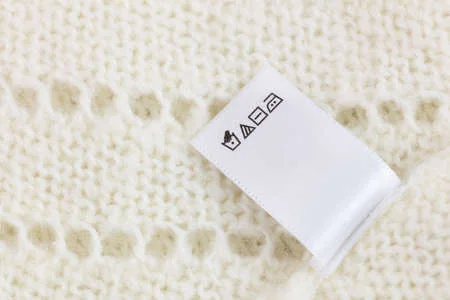ER_flat_dry: (245, 103, 271, 128)
ER_hand_wash: (216, 128, 244, 154)
ER_iron_medium_temp: (260, 89, 288, 116)
ER_non_chlorine_bleach: (235, 122, 261, 145)
